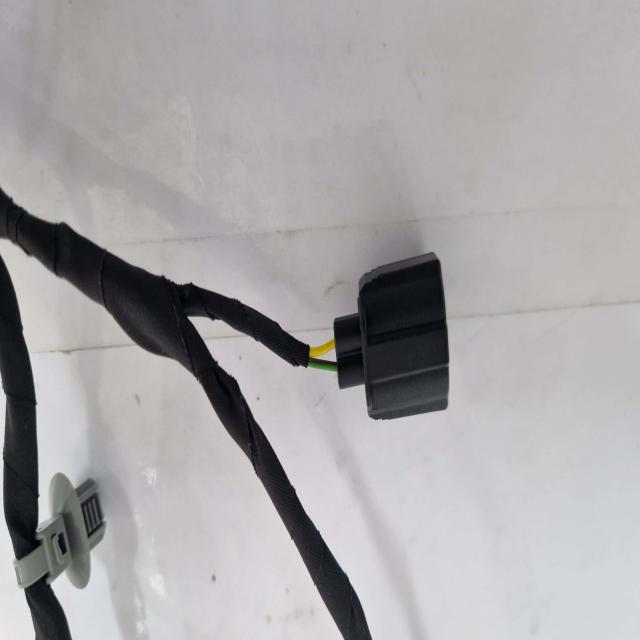Clip: (14, 473, 106, 593)
Connector: (334, 252, 449, 419)
Gape: (298, 332, 339, 391)
MHEV_N11_Cable: (0, 189, 370, 637), (0, 260, 38, 559), (28, 585, 69, 638)
